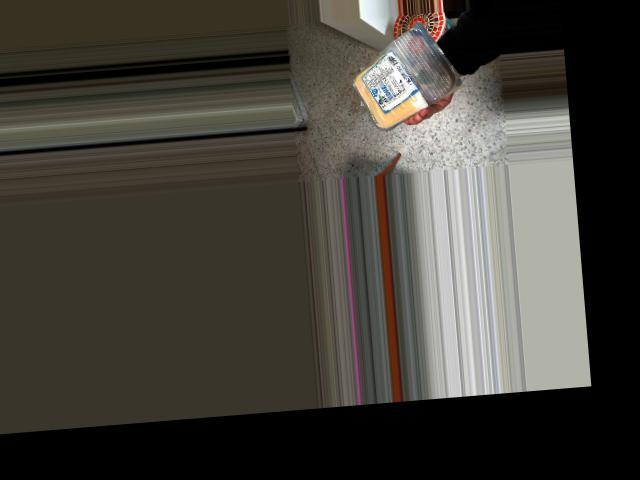cheese: (341, 23, 457, 122)
